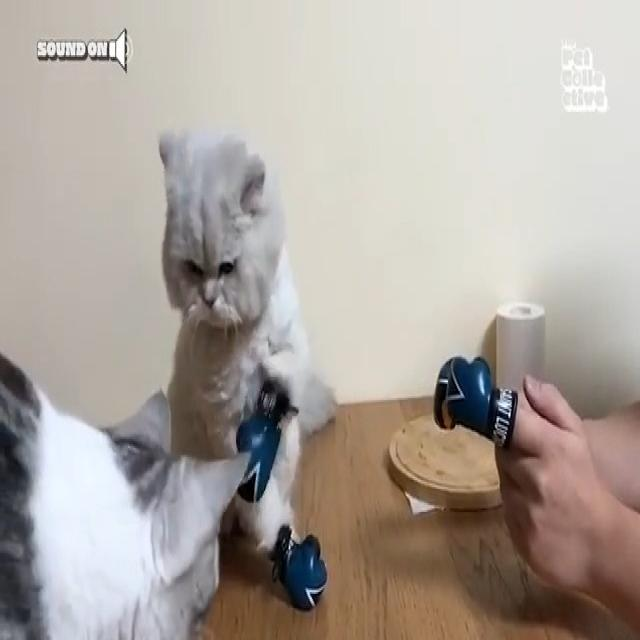cat: (159, 132, 333, 547), (0, 356, 248, 639)
